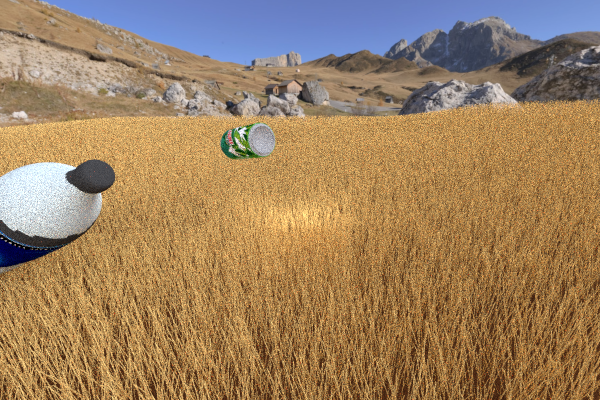Plastic Bottle: (0, 159, 115, 279), (401, 122, 462, 158), (220, 122, 275, 159)
